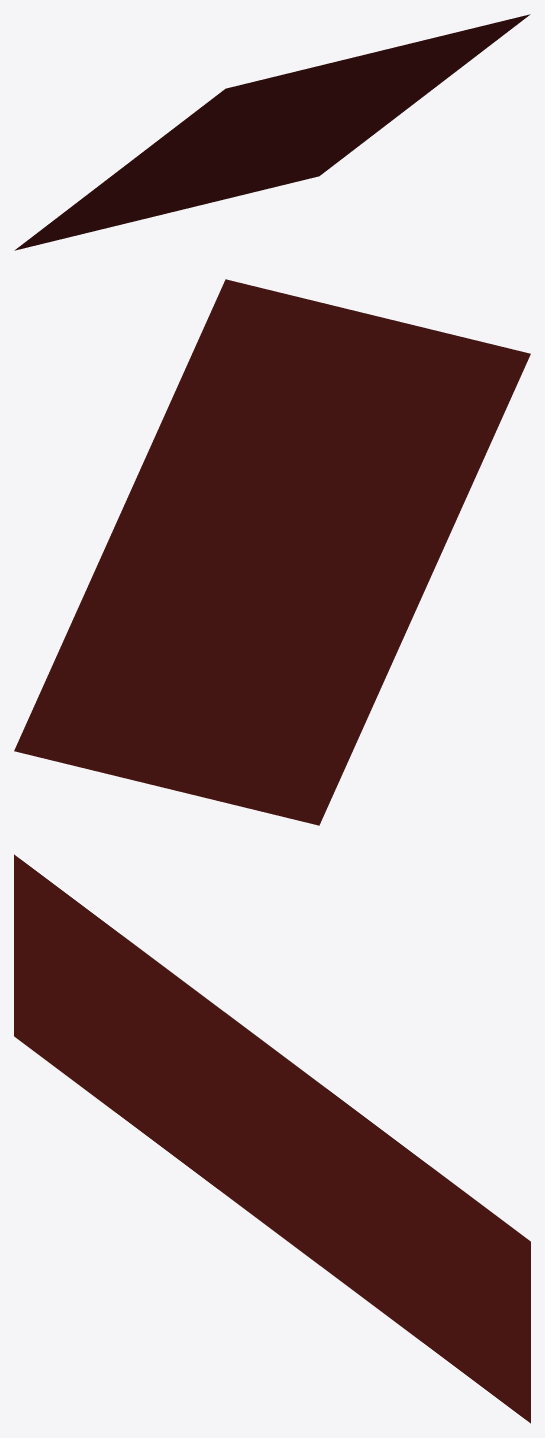
The model's file is RoofSlantPlane.FBX.
3 renders of one model, top to bottom at view 1: azimuth 30°, elevation 25°; view 2: azimuth 150°, elevation 25°; view 3: azimuth 270°, elevation 25°, orthographic. The views are drawn at different scales.
Parts seen in each view (by area): view 1: RoofSlantPlane; view 2: RoofSlantPlane; view 3: RoofSlantPlane.
Part boxes in pixels (<box>): RoofSlantPlane: <box>14,14,530,250</box>; RoofSlantPlane: <box>14,279,530,825</box>; RoofSlantPlane: <box>14,854,530,1423</box>.
Bounding box in the file's own units: 78.74 × 78.11 × 94.49.
